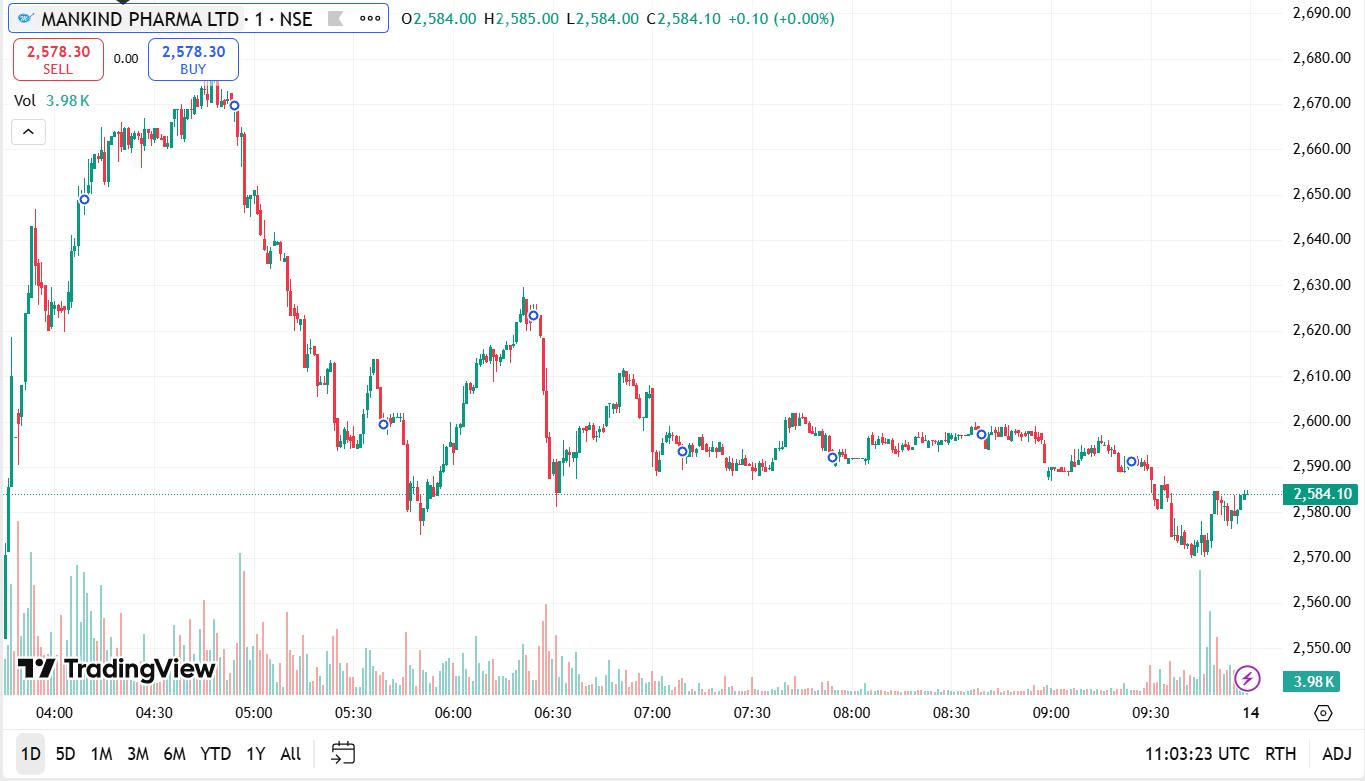Downtrend: (232, 85, 364, 457), (535, 282, 576, 506), (1140, 435, 1198, 558), (615, 360, 672, 476)
Sideways: (855, 410, 1046, 467)
Uptrend: (420, 275, 527, 521), (52, 120, 100, 340), (758, 395, 798, 479)
